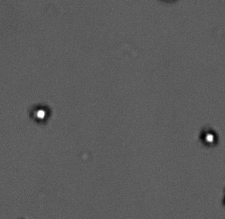Living Cell: (29, 105, 51, 123), (200, 128, 218, 146)
